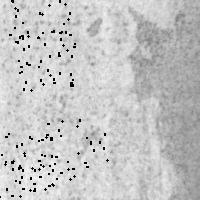pitted_surface: (1, 1, 127, 200), (128, 1, 200, 200), (15, 30, 74, 89), (47, 119, 106, 178), (1, 133, 60, 190), (9, 0, 69, 36), (0, 155, 44, 200)
